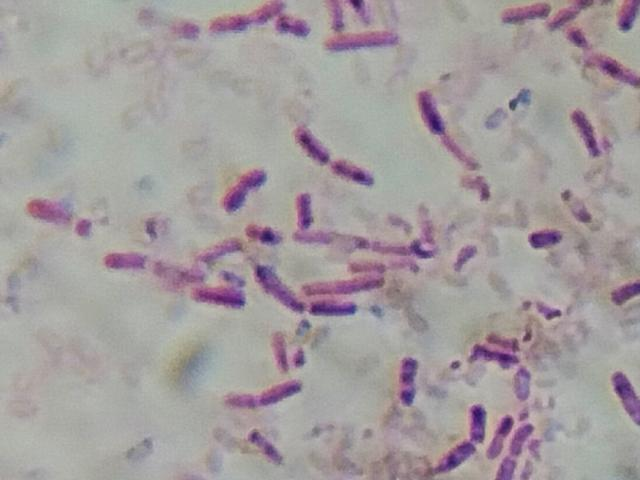E. coli: (413, 84, 484, 174), (229, 381, 312, 414), (218, 161, 273, 208), (25, 196, 97, 231), (257, 259, 303, 311), (571, 106, 605, 163), (606, 361, 640, 416), (98, 249, 151, 283), (389, 352, 421, 407), (328, 29, 408, 50), (214, 4, 284, 28), (294, 120, 334, 162), (304, 278, 388, 297), (193, 286, 247, 315), (600, 54, 640, 93), (296, 227, 366, 249), (251, 427, 289, 466), (197, 233, 245, 263), (497, 0, 553, 25), (373, 243, 442, 263), (436, 439, 472, 475), (459, 398, 489, 441), (329, 156, 375, 183), (525, 225, 566, 254), (471, 345, 518, 370), (159, 254, 199, 283), (613, 272, 639, 312), (269, 333, 297, 370), (448, 239, 475, 277), (417, 206, 442, 246), (246, 217, 283, 244), (508, 422, 537, 456), (479, 325, 520, 349), (554, 2, 597, 24), (512, 365, 537, 402), (612, 2, 640, 35), (314, 301, 355, 323), (347, 0, 384, 24), (278, 11, 313, 36), (488, 414, 508, 455), (568, 29, 595, 59), (294, 192, 321, 217), (328, 3, 348, 34), (345, 259, 385, 272), (494, 456, 513, 480)
